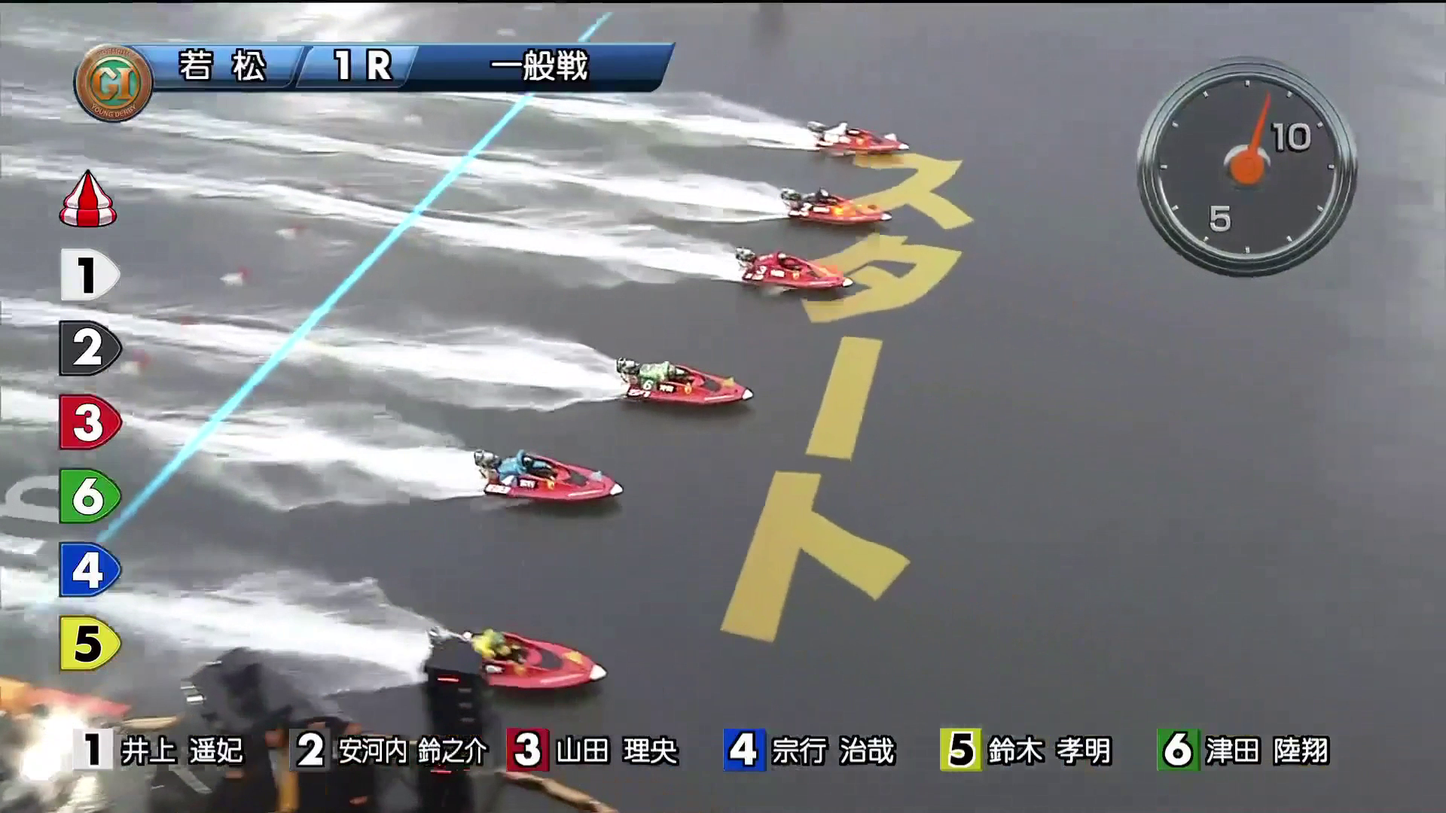１号艇: (790, 129, 872, 176)
２号艇: (807, 198, 883, 236)
３号艇: (760, 254, 839, 295)
４号艇: (646, 360, 725, 403)
５号艇: (507, 458, 593, 501)
６号艇: (468, 641, 564, 691)
